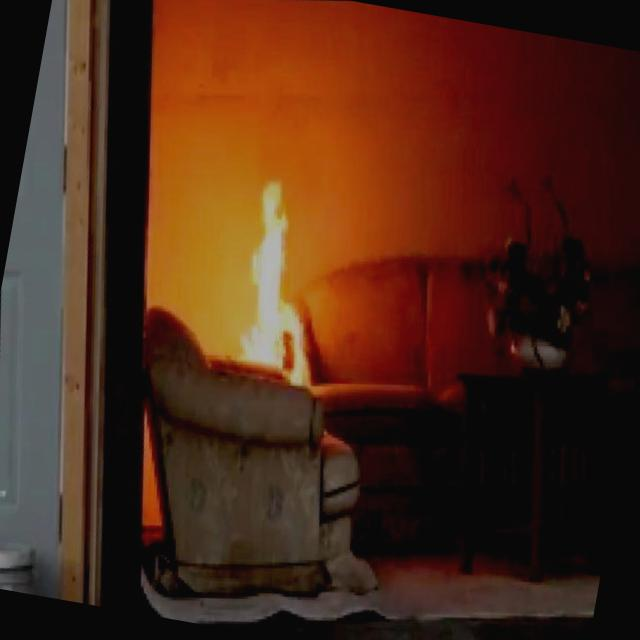fire: (201, 150, 348, 377)
